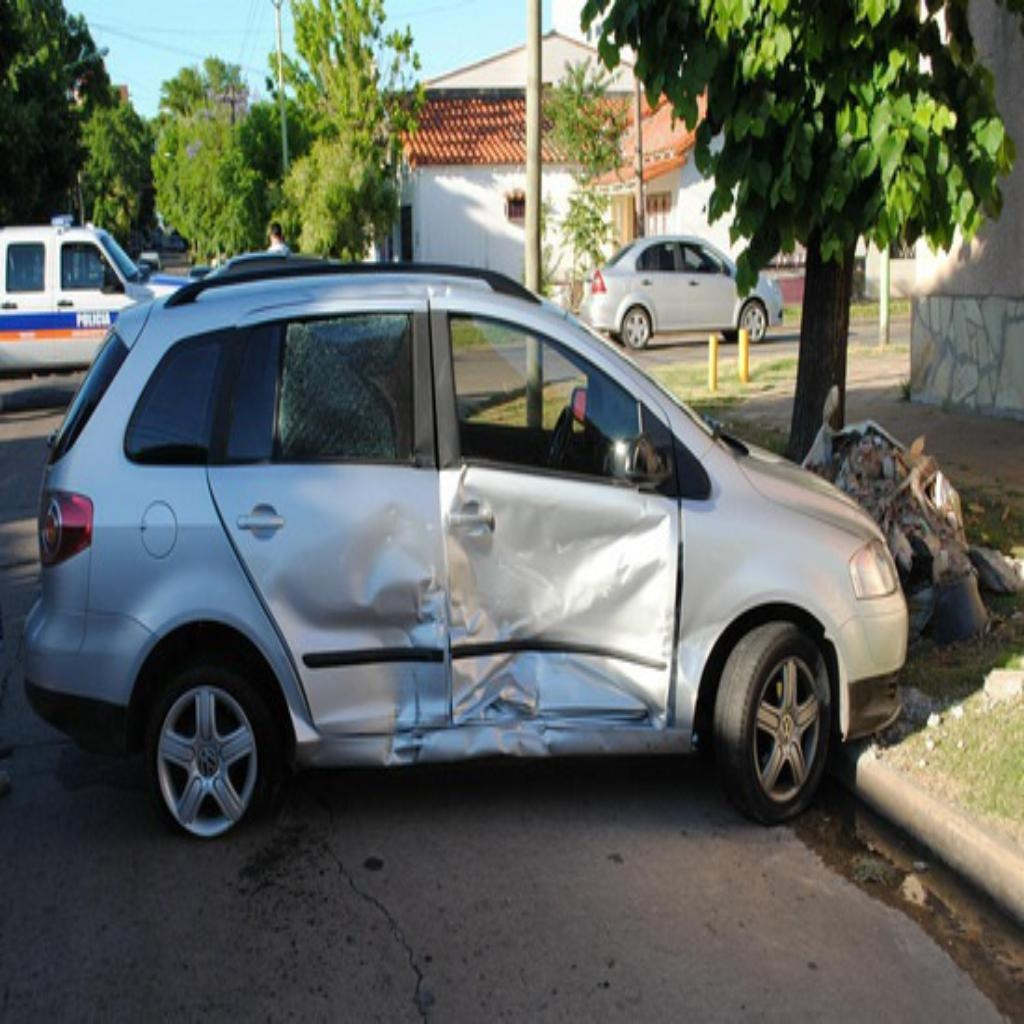Dent: (270, 506, 691, 761)
